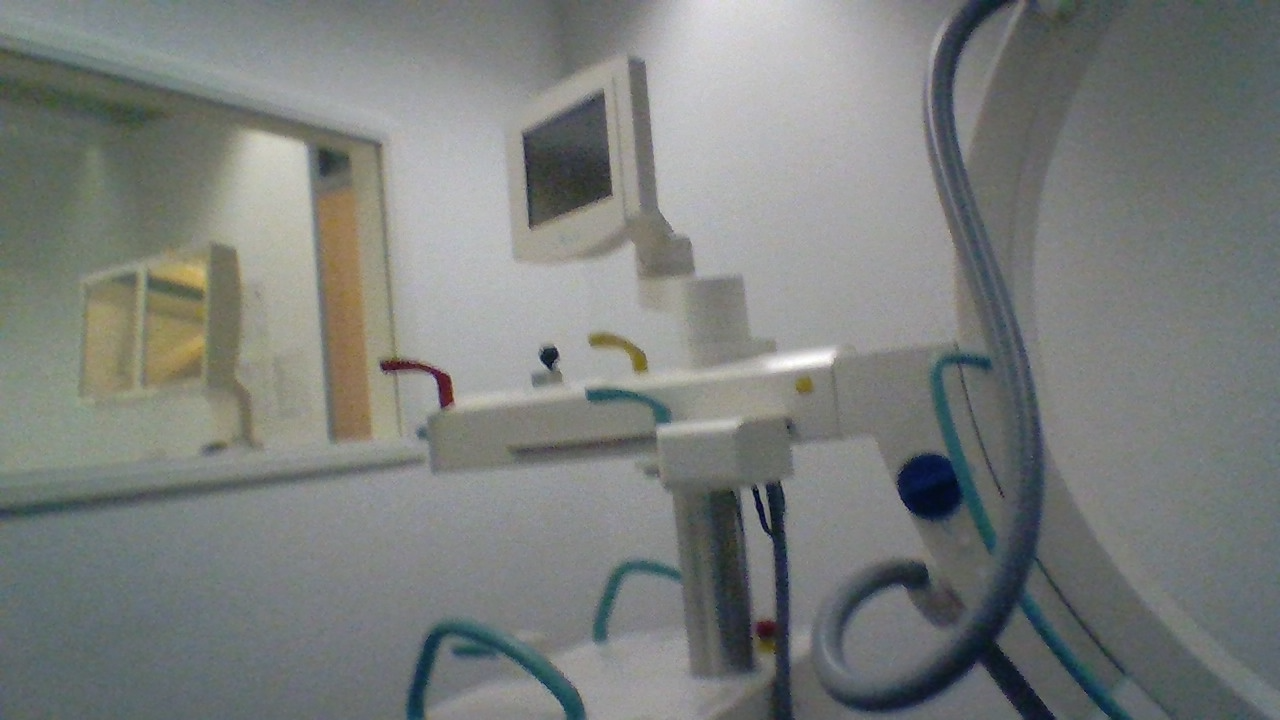carmBACK: (449, 627, 550, 674)
carmLOCK: (895, 453, 966, 521)
carmSCREEN: (509, 56, 657, 265)
